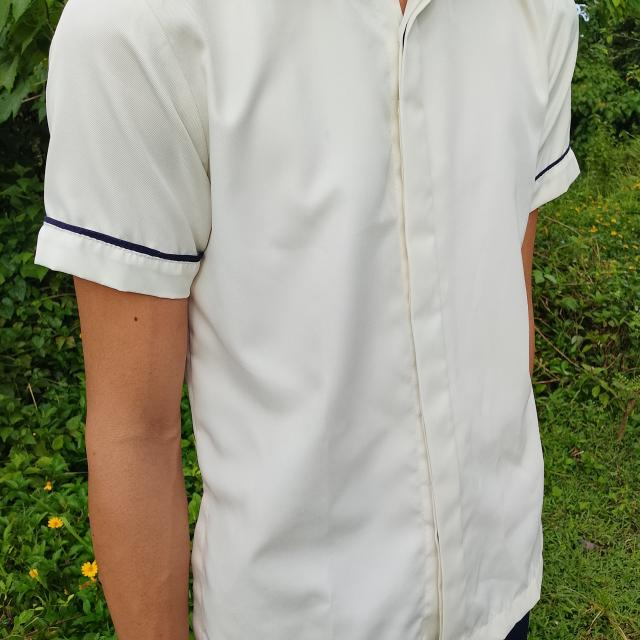education_male_uniform: (14, 0, 610, 640)
